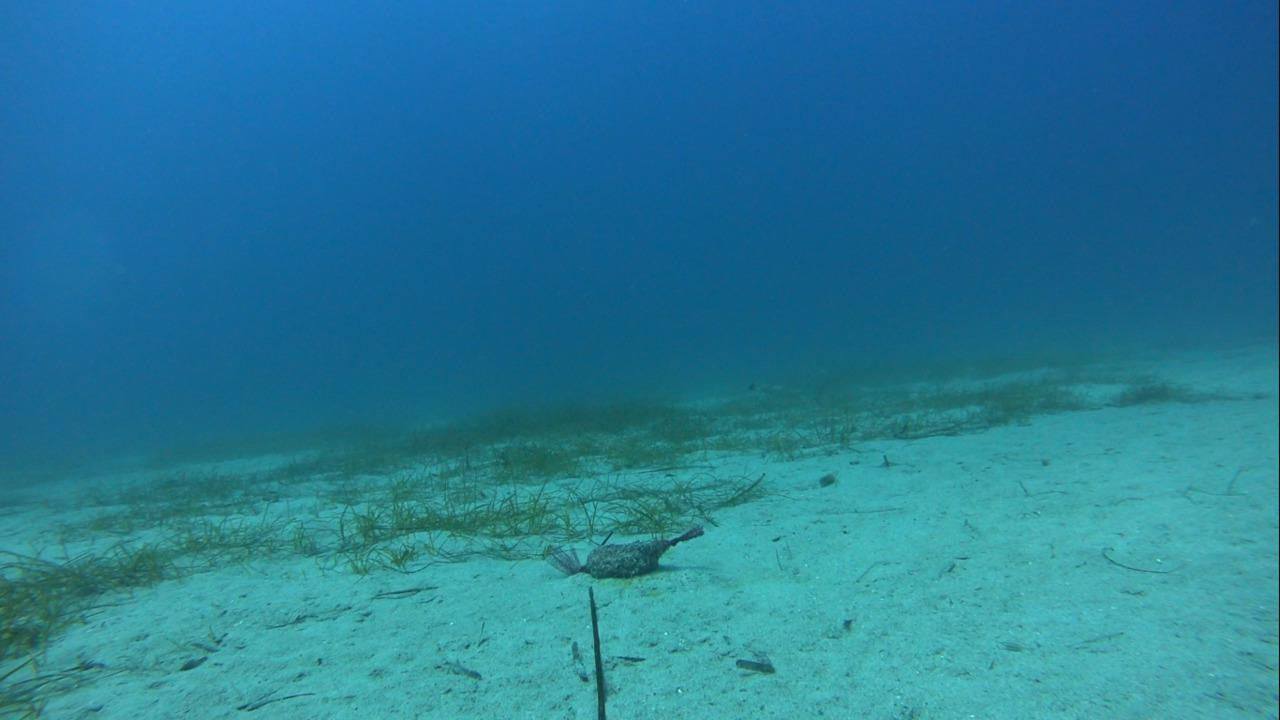dactylopterus: (736, 372, 806, 406)
